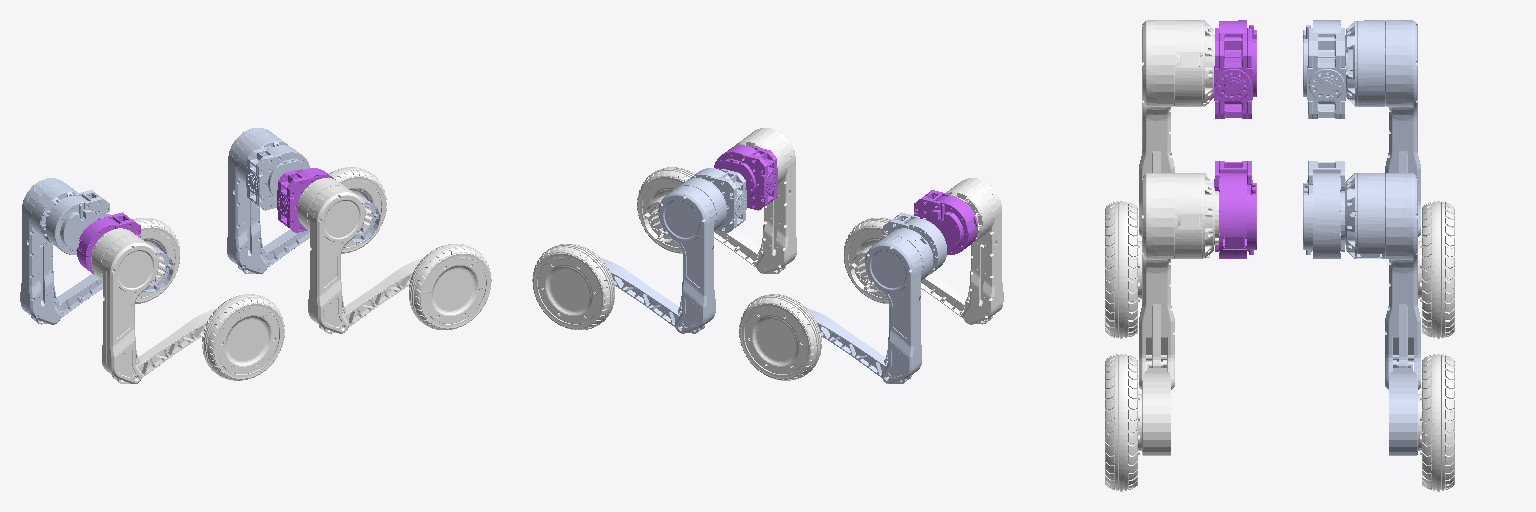
The robot description file, URDF, robot "w1w_urdf1":
<?xml version="1.0" encoding="utf-8"?>
<!-- This URDF was automatically created by SolidWorks to URDF Exporter! Originally created by Stephen Brawner (brawner@gmail.com) 
     Commit Version: 1.6.0-4-g7f85cfe  Build Version: 1.6.7995.38578
     For more information, please see http://wiki.ros.org/sw_urdf_exporter -->
<robot
  name="w1w_urdf1">
  <link
    name="base">
    <inertial>
      <origin
        xyz="0.00033662 -0.00014117 -0.0049327"
        rpy="0 0 0" />
      <mass
        value="15.45794823" />
      <inertia
        ixx="0.08529981"
        ixy="0.0005865"
        ixz="-0.00016964"
        iyy="0.22482416"
        iyz="2.583E-05"
        izz="0.28121869" />
    </inertial>
    <visual>
      <origin
        xyz="0 0 0"
        rpy="0 0 0" />
      <geometry>
        <mesh
          filename="../meshes/base.STL" />
      </geometry>
      <material
        name="">
        <color
          rgba="0.75294 0.75294 0.75294 1" />
      </material>
    </visual>
    <collision>
      <origin xyz="0 0 0.01" rpy="0 0 0" />
      <geometry><box size="0.34 0.20 0.12" /></geometry>
    </collision>
  </link>
  <link
    name="fl_hip">
    <inertial>
      <origin
        xyz="0.033563 -0.00050564 -0.00018205"
        rpy="0 0 0" />
      <mass
        value="1.70585327" />
      <inertia
        ixx="0.00078283"
        ixy="4.037E-05"
        ixz="7.39E-06"
        iyy="0.00150353"
        iyz="-3.12E-06"
        izz="0.00103096" />
    </inertial>
    <visual>
      <origin
        xyz="0 0 0"
        rpy="0 0 0" />
      <geometry>
        <mesh
          filename="../meshes/fl_hip.STL" />
      </geometry>
      <material
        name="">
        <color
          rgba="0.86667 0.9098 1 1" />
      </material>
    </visual>
    <collision>
      <origin xyz="0.057 -0.003 0" rpy="0 0 0" />
      <geometry><box size="0.10 0.045 0.08" /></geometry>
    </collision>
  </link>
  <joint
    name="fl_hip_joint"
    type="revolute">
    <origin
      xyz="0.1875 0.065 0"
      rpy="0 0 0" />
    <parent
      link="base" />
    <child
      link="fl_hip" />
    <axis
      xyz="-1 0 0" />
    <limit
      lower="-0.43633"
      upper="0.43633"
      effort="120"
      velocity="20.10619" />
  </joint>
  <link
    name="fl_thigh">
    <inertial>
      <origin
        xyz="-0.0088185 -0.017807 -0.058901"
        rpy="0 0 0" />
      <mass
        value="2.58224612" />
      <inertia
        ixx="0.01404651"
        ixy="0.00039693"
        ixz="-0.00118544"
        iyy="0.0134095"
        iyz="0.00253368"
        izz="0.00296062" />
    </inertial>
    <visual>
      <origin
        xyz="0 0 0"
        rpy="0 0 0" />
      <geometry>
        <mesh
          filename="../meshes/fl_thigh.STL" />
      </geometry>
      <material
        name="">
        <color
          rgba="0.86667 0.9098 1 1" />
      </material>
    </visual>
    <collision>
      <origin xyz="0 -0.018 -0.13" rpy="0 0 0" />
      <geometry><box size="0.055 0.045 0.27" /></geometry>
    </collision>
  </link>
  <joint
    name="fl_thigh_joint"
    type="revolute">
    <origin
      xyz="0.064 0.10625 0"
      rpy="0 0 0" />
    <parent
      link="fl_hip" />
    <child
      link="fl_thigh" />
    <axis
      xyz="0 -1 0" />
    <limit
      lower="-2.82743"
      upper="1.88496"
      effort="120"
      velocity="20.10619" />
  </joint>
  <link
    name="fl_calf">
    <inertial>
      <origin
        xyz="-0.014894 0.00087895 -0.14227"
        rpy="0 0 0" />
      <mass
        value="0.39230041" />
      <inertia
        ixx="0.0038708"
        ixy="1.3298E-06"
        ixz="0.00063621"
        iyy="0.0041839"
        iyz="-4.8646E-06"
        izz="0.00038028" />
    </inertial>
    <visual>
      <origin
        xyz="0 0 0"
        rpy="0 0 0" />
      <geometry>
        <mesh
          filename="../meshes/fl_calf.STL" />
      </geometry>
      <material
        name="">
        <color
          rgba="0.86667 0.9098 1 1" />
      </material>
    </visual>
    <collision>
      <origin xyz="-0.03 0 -0.14" rpy="0 0 0" />
      <geometry><box size="0.035 0.030 0.28" /></geometry>
    </collision>
  </link>
  <joint
    name="fl_calf_joint"
    type="revolute">
    <origin
      xyz="0 0.00025 -0.25"
      rpy="0 0 0" />
    <parent
      link="fl_thigh" />
    <child
      link="fl_calf" />
    <axis
      xyz="0 -1 0" />
    <limit
      lower="1.04720"
      upper="2.879793265"
      effort="175.38"
      velocity="13.75723" />
  </joint>
  <link
    name="fl_foot">
    <inertial>
      <origin
        xyz="-4.3721E-06 -0.020823 5.9956E-06"
        rpy="0 0 0" />
      <mass
        value="1.1907" />
      <inertia
        ixx="0.0028383"
        ixy="3.2144E-07"
        ixz="4.2538E-07"
        iyy="0.0049812"
        iyz="-3.4222E-07"
        izz="0.0028378" />
    </inertial>
    <visual>
      <origin
        xyz="0 0 0"
        rpy="0 0 0" />
      <geometry>
        <mesh
          filename="../meshes/fl_foot.STL" />
      </geometry>
      <material
        name="">
        <color
          rgba="1 1 1 1" />
      </material>
    </visual>
    <collision>
      <origin xyz="0 -0.034 0" rpy="1.57079632679 0 0" />
      <geometry><cylinder radius="0.096" length="0.075" /></geometry>
    </collision>
  </link>
  <joint
    name="fl_foot_joint"
    type="revolute">
    <origin
      xyz="-0.05 0.065 -0.24495"
      rpy="0 0 0" />
    <parent
      link="fl_calf" />
    <child
      link="fl_foot" />
    <axis
      xyz="0 -1 0" />
    <limit
      lower="-9999"
      upper="9999"
      effort="28.68"
      velocity="104.71976" />
  </joint>
  <link
    name="fr_hip">
    <inertial>
      <origin
        xyz="0.032285 0.00050564 -0.00018205"
        rpy="0 0 0" />
      <mass
        value="1.70585327" />
      <inertia
        ixx="0.00078283"
        ixy="-3.825E-05"
        ixz="3.26E-06"
        iyy="0.00145764"
        iyz="3.12E-06"
        izz="0.00098507" />
    </inertial>
    <visual>
      <origin
        xyz="0 0 0"
        rpy="0 0 0" />
      <geometry>
        <mesh
          filename="../meshes/fr_hip.STL" />
      </geometry>
      <material
        name="">
        <color
          rgba="0.83137 0.46667 1 1" />
      </material>
    </visual>
    <collision>
      <origin xyz="0.057 0.003 0" rpy="0 0 0" />
      <geometry><box size="0.10 0.045 0.08" /></geometry>
    </collision>
  </link>
  <joint
    name="fr_hip_joint"
    type="revolute">
    <origin
      xyz="0.188 -0.065 0"
      rpy="0 0 0" />
    <parent
      link="base" />
    <child
      link="fr_hip" />
    <axis
      xyz="-1 0 0" />
    <limit
      lower="-0.43633"
      upper="0.43633"
      effort="120"
      velocity="20.10619" />
  </joint>
  <link
    name="fr_thigh">
    <inertial>
      <origin
        xyz="-0.0089834 -0.32469 -0.059513"
        rpy="0 0 0" />
      <mass
        value="2.58224261" />
      <inertia
        ixx="0.01385872"
        ixy="-0.00037895"
        ixz="-0.00112565"
        iyy="0.01320311"
        iyz="-0.00246703"
        izz="0.00294202" />
    </inertial>
    <visual>
      <origin
        xyz="0 0 0"
        rpy="0 0 0" />
      <geometry>
        <mesh
          filename="../meshes/fr_thigh.STL" />
      </geometry>
      <material
        name="">
        <color
          rgba="1 1 1 1" />
      </material>
    </visual>
    <collision>
      <!-- The SolidWorks export uses a compensated FR link frame. -->
      <origin xyz="0 -0.311 -0.13" rpy="0 0 0" />
      <geometry><box size="0.055 0.045 0.27" /></geometry>
    </collision>
  </link>
  <joint
    name="fr_thigh_joint"
    type="revolute">
    <origin
      xyz="0.0635 0.23625 0"
      rpy="0 0 0" />
    <parent
      link="fr_hip" />
    <child
      link="fr_thigh" />
    <axis
      xyz="0 1 0" />
    <limit
      lower="-1.88496"
      upper="2.82743"
      effort="120"
      velocity="20.10619" />
  </joint>
  <link
    name="fr_calf">
    <inertial>
      <origin
        xyz="-0.014894 -0.34388 -0.14227"
        rpy="0 0 0" />
      <mass
        value="0.3923" />
      <inertia
        ixx="0.0038708"
        ixy="-1.3298E-06"
        ixz="0.00063621"
        iyy="0.0041839"
        iyz="4.8652E-06"
        izz="0.00038028" />
    </inertial>
    <visual>
      <origin
        xyz="0 0 0"
        rpy="0 0 0" />
      <geometry>
        <mesh
          filename="../meshes/fr_calf.STL" />
      </geometry>
      <material
        name="">
        <color
          rgba="1 1 1 1" />
      </material>
    </visual>
    <collision>
      <!-- Keep this offset consistent with the exported FR calf frame. -->
      <origin xyz="-0.03 -0.343 -0.14" rpy="0 0 0" />
      <geometry><box size="0.035 0.030 0.28" /></geometry>
    </collision>
  </link>
  <joint
    name="fr_calf_joint"
    type="revolute">
    <origin
      xyz="0 0.00025 -0.25"
      rpy="0 0 0" />
    <parent
      link="fr_thigh" />
    <child
      link="fr_calf" />
    <axis
      xyz="0 1 0" />
    <limit
      lower="-2.879793265"
      upper="-1.04720"
      effort="175.38"
      velocity="13.75723" />
  </joint>
  <link
    name="fr_foot">
    <inertial>
      <origin
        xyz="-4.3721E-06 0.020823 5.9956E-06"
        rpy="0 0 0" />
      <mass
        value="1.1907" />
      <inertia
        ixx="0.0028383"
        ixy="-3.2144E-07"
        ixz="4.2539E-07"
        iyy="0.0049812"
        iyz="3.4222E-07"
        izz="0.0028378" />
    </inertial>
    <visual>
      <origin
        xyz="0 0 0"
        rpy="0 0 0" />
      <geometry>
        <mesh
          filename="../meshes/fr_foot.STL" />
      </geometry>
      <material
        name="">
        <color
          rgba="1 1 1 1" />
      </material>
    </visual>
    <collision>
      <origin xyz="0 0.034 0" rpy="1.57079632679 0 0" />
      <geometry><cylinder radius="0.096" length="0.075" /></geometry>
    </collision>
  </link>
  <joint
    name="ft_foot_joint"
    type="revolute">
    <origin
      xyz="-0.05 -0.408 -0.24495"
      rpy="0 0 0" />
    <parent
      link="fr_calf" />
    <child
      link="fr_foot" />
    <axis
      xyz="0 1 0" />
    <limit
      lower="-9999"
      upper="9999"
      effort="28.68"
      velocity="104.71976" />
  </joint>
  <link
    name="rl_hip">
    <inertial>
      <origin
        xyz="-0.033063 -0.00050564 0.00018205"
        rpy="0 0 0" />
      <mass
        value="1.70585327" />
      <inertia
        ixx="0.00078283"
        ixy="-4.037E-05"
        ixz="7.39E-06"
        iyy="0.00150353"
        iyz="3.12E-06"
        izz="0.00103096" />
    </inertial>
    <visual>
      <origin
        xyz="0 0 0"
        rpy="0 0 0" />
      <geometry>
        <mesh
          filename="../meshes/rl_hip.STL" />
      </geometry>
      <material
        name="">
        <color
          rgba="0.86667 0.9098 1 1" />
      </material>
    </visual>
    <collision>
      <origin xyz="-0.057 -0.003 0" rpy="0 0 0" />
      <geometry><box size="0.10 0.045 0.08" /></geometry>
    </collision>
  </link>
  <joint
    name="rl_hip_joint"
    type="revolute">
    <origin
      xyz="-0.188 0.065 0"
      rpy="0 0 0" />
    <parent
      link="base" />
    <child
      link="rl_hip" />
    <axis
      xyz="1 0 0" />
    <limit
      lower="-0.43633"
      upper="0.43633"
      effort="120"
      velocity="20.10619" />
  </joint>
  <link
    name="rl_thigh">
    <inertial>
      <origin
        xyz="-0.0092718 -0.017807 -0.059436"
        rpy="0 0 0" />
      <mass
        value="2.58224612" />
      <inertia
        ixx="0.01384246"
        ixy="0.00036506"
        ixz="-0.00115407"
        iyy="0.01320063"
        iyz="0.00247079"
        izz="0.0029558" />
    </inertial>
    <visual>
      <origin
        xyz="0 0 0"
        rpy="0 0 0" />
      <geometry>
        <mesh
          filename="../meshes/rl_thigh.STL" />
      </geometry>
      <material
        name="">
        <color
          rgba="0.86667 0.9098 1 1" />
      </material>
    </visual>
    <collision>
      <origin xyz="0 -0.018 -0.13" rpy="0 0 0" />
      <geometry><box size="0.055 0.045 0.27" /></geometry>
    </collision>
  </link>
  <joint
    name="rl_thigh_joint"
    type="revolute">
    <origin
      xyz="-0.0635 0.10625 0"
      rpy="0 0 0" />
    <parent
      link="rl_hip" />
    <child
      link="rl_thigh" />
    <axis
      xyz="0 -1 0" />
    <limit
      lower="-2.82743"
      upper="1.88496"
      effort="120"
      velocity="20.10619" />
  </joint>
  <link
    name="rl_calf">
    <inertial>
      <origin
        xyz="-0.0148940469416107 0.00087894727375229 -0.142273291299503"
        rpy="0 0 0" />
      <mass
        value="0.392299741346601" />
      <inertia
        ixx="0.00387083196405019"
        ixy="1.32982711389938E-06"
        ixz="0.000636210165349287"
        iyy="0.00418391514495464"
        iyz="-4.8645947622699E-06"
        izz="0.00038028018074163" />
    </inertial>
    <visual>
      <origin
        xyz="0 0 0"
        rpy="0 0 0" />
      <geometry>
        <mesh
          filename="../meshes/rl_calf.STL" />
      </geometry>
      <material
        name="">
        <color
          rgba="0.866666666666667 0.909803921568627 1 1" />
      </material>
    </visual>
    <collision>
      <origin xyz="-0.03 0 -0.14" rpy="0 0 0" />
      <geometry><box size="0.035 0.030 0.28" /></geometry>
    </collision>
  </link>
  <joint
    name="rl_calf_joint"
    type="revolute">
    <origin
      xyz="0 0.00025 -0.25"
      rpy="0 0 0" />
    <parent
      link="rl_thigh" />
    <child
      link="rl_calf" />
    <axis
      xyz="0 -1 0" />
    <limit
      lower="1.04720"
      upper="2.879793265"
      effort="175.38"
      velocity="13.75723" />
  </joint>
  <link
    name="rl_foot">
    <inertial>
      <origin
        xyz="-4.37212076204174E-06 -0.0208234340707595 5.99556239805343E-06"
        rpy="0 0 0" />
      <mass
        value="1.19073214954714" />
      <inertia
        ixx="0.00283827527211726"
        ixy="3.21441276826757E-07"
        ixz="4.25384433784202E-07"
        iyy="0.00498116700711269"
        iyz="-3.42216340840322E-07"
        izz="0.00283783868062666" />
    </inertial>
    <visual>
      <origin
        xyz="0 0 0"
        rpy="0 0 0" />
      <geometry>
        <mesh
          filename="../meshes/rl_foot.STL" />
      </geometry>
      <material
        name="">
        <color
          rgba="1 1 1 1" />
      </material>
    </visual>
    <collision>
      <origin xyz="0 -0.034 0" rpy="1.57079632679 0 0" />
      <geometry><cylinder radius="0.096" length="0.075" /></geometry>
    </collision>
  </link>
  <joint
    name="rl_foot_joint"
    type="revolute">
    <origin
      xyz="-0.05 0.065 -0.24495"
      rpy="0 0 0" />
    <parent
      link="rl_calf" />
    <child
      link="rl_foot" />
    <axis
      xyz="0 -1 0" />
    <limit
      lower="-9999"
      upper="9999"
      effort="28.68"
      velocity="104.71976" />
  </joint>
  <link
    name="rr_hip">
    <inertial>
      <origin
        xyz="-0.032285 0.00050564 0.00018205"
        rpy="0 0 0" />
      <mass
        value="1.70585327" />
      <inertia
        ixx="0.00078283"
        ixy="3.825E-05"
        ixz="3.26E-06"
        iyy="0.00145764"
        iyz="-3.12E-06"
        izz="0.00098507" />
    </inertial>
    <visual>
      <origin
        xyz="0 0 0"
        rpy="0 0 0" />
      <geometry>
        <mesh
          filename="../meshes/rr_hip.STL" />
      </geometry>
      <material
        name="">
        <color
          rgba="0.83137 0.46667 1 1" />
      </material>
    </visual>
    <collision>
      <origin xyz="-0.057 0.003 0" rpy="0 0 0" />
      <geometry><box size="0.10 0.045 0.08" /></geometry>
    </collision>
  </link>
  <joint
    name="rr_hip_joint"
    type="revolute">
    <origin
      xyz="-0.188 -0.065 0"
      rpy="0 0 0" />
    <parent
      link="base" />
    <child
      link="rr_hip" />
    <axis
      xyz="1 0 0" />
    <limit
      lower="-0.43633"
      upper="0.43633"
      effort="120"
      velocity="20.10619" />
  </joint>
  <link
    name="rr_thigh">
    <inertial>
      <origin
        xyz="-0.012286 0.0026561 -0.080366"
        rpy="0 0 0" />
      <mass
        value="2.58224261" />
      <inertia
        ixx="0.01384889"
        ixy="-0.00038644"
        ixz="-0.00113403"
        iyy="0.01320055"
        iyz="-0.0024674"
        izz="0.00294929" />
    </inertial>
    <visual>
      <origin
        xyz="0 0 0"
        rpy="0 0 0" />
      <geometry>
        <mesh
          filename="../meshes/rr_thigh.STL" />
      </geometry>
      <material
        name="">
        <color
          rgba="1 1 1 1" />
      </material>
    </visual>
    <collision>
      <origin xyz="0 0.018 -0.13" rpy="0 0 0" />
      <geometry><box size="0.055 0.045 0.27" /></geometry>
    </collision>
  </link>
  <joint
    name="rr_thigh_joint"
    type="revolute">
    <origin
      xyz="-0.0635 -0.10675 0"
      rpy="0 0 0" />
    <parent
      link="rr_hip" />
    <child
      link="rr_thigh" />
    <axis
      xyz="0 1 0" />
    <limit
      lower="-1.88496"
      upper="2.82743"
      effort="120"
      velocity="20.10619" />
  </joint>
  <link
    name="rr_calf">
    <inertial>
      <origin
        xyz="-0.014894 -0.00087893 -0.14227"
        rpy="0 0 0" />
      <mass
        value="0.3923" />
      <inertia
        ixx="0.0038708"
        ixy="-1.3298E-06"
        ixz="0.00063621"
        iyy="0.0041839"
        iyz="4.8652E-06"
        izz="0.00038028" />
    </inertial>
    <visual>
      <origin
        xyz="0 0 0"
        rpy="0 0 0" />
      <geometry>
        <mesh
          filename="../meshes/rr_calf.STL" />
      </geometry>
      <material
        name="">
        <color
          rgba="1 1 1 1" />
      </material>
    </visual>
    <collision>
      <origin xyz="-0.03 0 -0.14" rpy="0 0 0" />
      <geometry><box size="0.035 0.030 0.28" /></geometry>
    </collision>
  </link>
  <joint
    name="rr_calf_joint"
    type="revolute">
    <origin
      xyz="0 0.00025 -0.25"
      rpy="0 0 0" />
    <parent
      link="rr_thigh" />
    <child
      link="rr_calf" />
    <axis
      xyz="0 1 0" />
    <limit
      lower="-2.879793265"
      upper="-1.04720"
      effort="175.38"
      velocity="13.75723" />
  </joint>
  <link
    name="rr_foot">
    <inertial>
      <origin
        xyz="-4.3720996385499E-06 0.0208234341843068 5.99557005753759E-06"
        rpy="0 0 0" />
      <mass
        value="1.19073214986605" />
      <inertia
        ixx="0.00283827526904558"
        ixy="-3.21440316137518E-07"
        ixz="4.25385658830537E-07"
        iyy="0.00498116699623824"
        iyz="3.4221667752732E-07"
        izz="0.0028378386757543" />
    </inertial>
    <visual>
      <origin
        xyz="0 0 0"
        rpy="0 0 0" />
      <geometry>
        <mesh
          filename="../meshes/rr_foot.STL" />
      </geometry>
      <material
        name="">
        <color
          rgba="1 1 1 1" />
      </material>
    </visual>
    <collision>
      <origin xyz="0 0.034 0" rpy="1.57079632679 0 0" />
      <geometry><cylinder radius="0.096" length="0.075" /></geometry>
    </collision>
  </link>
  <joint
    name="rr_foot_joint"
    type="revolute">
    <origin
      xyz="-0.05 -0.065 -0.24495"
      rpy="0 0 0" />
    <parent
      link="rr_calf" />
    <child
      link="rr_foot" />
    <axis
      xyz="0 1 0" />
    <limit
      lower="-9999"
      upper="9999"
      effort="28.68"
      velocity="104.71976" />
  </joint>
</robot>

--- Facts derived from the render (not from the file) ---
3 views of the same robot in one strip: view 1: azimuth 30°, elevation 25°; view 2: azimuth 150°, elevation 25°; view 3: azimuth 270°, elevation 25° (orthographic).
Robot: w1w_urdf1 — 17 links, 16 joints (16 revolute); root link base; default pose: all joints at 0 but 4 set to mid-range because 0 is outside their limits (fl_calf_joint = 1.96, fr_calf_joint = -1.96, rl_calf_joint = 1.96, rr_calf_joint = -1.96).
Links seen in each view (by area): view 1: rr_thigh, fr_thigh, rr_foot, fr_foot, rl_thigh, fl_thigh, rl_hip, fl_hip, fl_foot, fr_hip, rr_calf, fr_calf (+4 smaller); view 2: rl_thigh, fl_thigh, rl_foot, fl_foot, rr_thigh, fr_thigh, fr_hip, rr_hip, fr_foot, fl_hip, rl_calf, fl_calf (+4 smaller); view 3: fr_thigh, fl_thigh, rr_thigh, rl_thigh, rl_foot, rr_foot, fl_foot, fr_foot, rl_hip, rr_hip, fl_hip, fr_hip (+2 smaller).
Boxes of the visible links, left/top/right/bottom form: rr_thigh: left=90, top=228, right=158, bottom=383; fr_thigh: left=297, top=178, right=365, bottom=333; rr_foot: left=202, top=294, right=284, bottom=380; fr_foot: left=409, top=244, right=491, bottom=329; rl_thigh: left=20, top=178, right=77, bottom=324; fl_thigh: left=227, top=128, right=289, bottom=273; rl_hip: left=46, top=190, right=109, bottom=254; fl_hip: left=246, top=145, right=309, bottom=210; fl_foot: left=329, top=167, right=386, bottom=253; fr_hip: left=277, top=168, right=335, bottom=232; rr_calf: left=112, top=308, right=216, bottom=383; fr_calf: left=319, top=258, right=422, bottom=333; rl_thigh: left=865, top=228, right=932, bottom=383; fl_thigh: left=658, top=178, right=726, bottom=333; rl_foot: left=739, top=294, right=821, bottom=380; fl_foot: left=532, top=244, right=614, bottom=329; rr_thigh: left=946, top=178, right=1003, bottom=324; fr_thigh: left=734, top=128, right=796, bottom=273; fr_hip: left=714, top=145, right=777, bottom=210; rr_hip: left=914, top=190, right=977, bottom=254; fr_foot: left=637, top=167, right=694, bottom=253; fl_hip: left=688, top=168, right=746, bottom=232; rl_calf: left=807, top=308, right=911, bottom=383; fl_calf: left=601, top=258, right=704, bottom=333; fr_thigh: left=1139, top=173, right=1218, bottom=389; fl_thigh: left=1341, top=173, right=1420, bottom=389; rr_thigh: left=1139, top=20, right=1214, bottom=236; rl_thigh: left=1345, top=20, right=1420, bottom=236; rl_foot: left=1418, top=201, right=1454, bottom=338; rr_foot: left=1105, top=201, right=1141, bottom=338; fl_foot: left=1418, top=354, right=1454, bottom=491; fr_foot: left=1105, top=354, right=1141, bottom=491; rl_hip: left=1303, top=20, right=1345, bottom=118; rr_hip: left=1214, top=20, right=1256, bottom=118; fl_hip: left=1303, top=161, right=1345, bottom=258; fr_hip: left=1214, top=161, right=1256, bottom=258.
Bounding box of the posed robot: 0.9044 × 0.4875 × 0.3584 m (x, y, z).
16 mesh visuals loaded from 17 distinct referenced files (16 binary STL); not drawn: 1 (reference not matched to a file when rendering).
